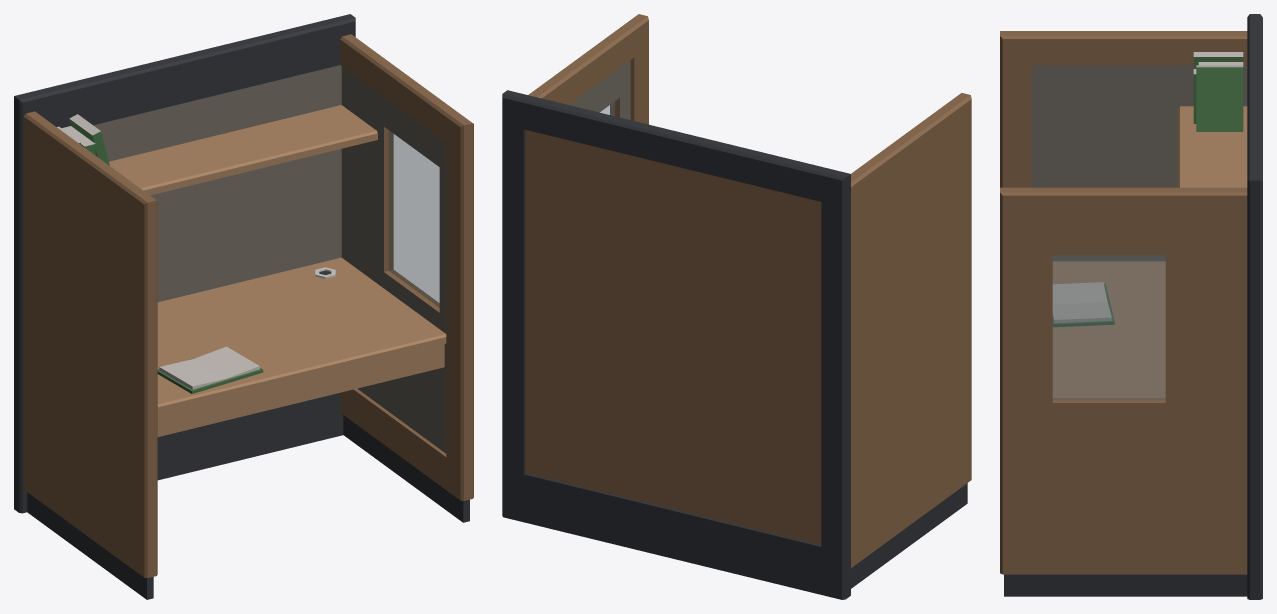
Rendered from stage2_study_carrel.glb.
3 renders of one model, left to right at view 1: azimuth 30°, elevation 25°; view 2: azimuth 150°, elevation 25°; view 3: azimuth 270°, elevation 25°, orthographic. The views are drawn at different scales.
Visible parts, largest first — view 1: carrel, vision-glass, dressing-mesh; view 2: carrel; view 3: carrel, vision-glass, dressing-mesh.
Boxes of the visible parts, left/top/right/bottom form: carrel: left=14, top=14, right=473, bottom=599; vision-glass: left=388, top=130, right=439, bottom=307; dressing-mesh: left=57, top=114, right=263, bottom=393; carrel: left=502, top=14, right=971, bottom=599; carrel: left=1000, top=14, right=1262, bottom=599; vision-glass: left=1052, top=255, right=1165, bottom=400; dressing-mesh: left=1052, top=52, right=1243, bottom=327.
Size of the model in its own units: 1.5 by 1.76 by 1.
